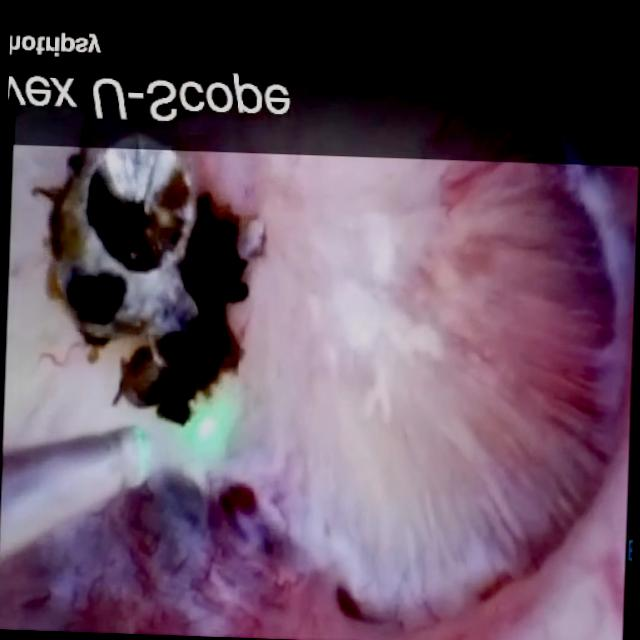laser-fibre: (0, 428, 150, 557)
laser_dot: (189, 404, 229, 458)
stone-new: (32, 137, 263, 425)
